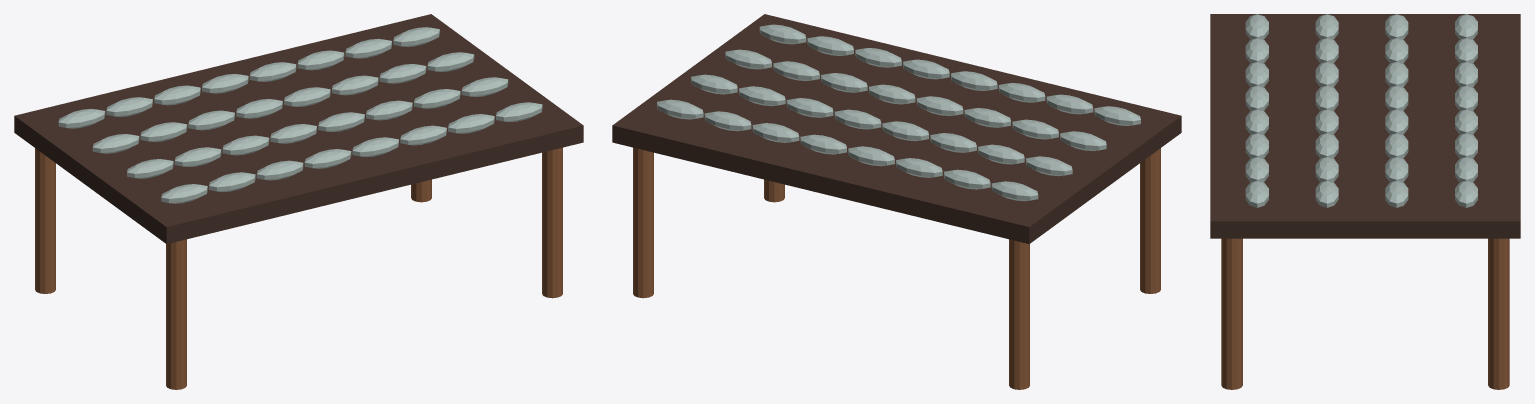
File: 076_fish_drying_rack.glb
3 views of the same model, side by side, from view 1: azimuth 30°, elevation 25°; view 2: azimuth 150°, elevation 25°; view 3: azimuth 270°, elevation 25° (orthographic).
Visible parts, largest first — view 1: Fish drying rack; view 2: Fish drying rack; view 3: Fish drying rack.
Boxes of the visible parts, box(x1,y1,x2,y2) form: Fish drying rack: box(14, 14, 583, 389); Fish drying rack: box(612, 14, 1181, 389); Fish drying rack: box(1210, 14, 1520, 389).
Size of the model in its own units: 2.04 by 0.862 by 1.29.
